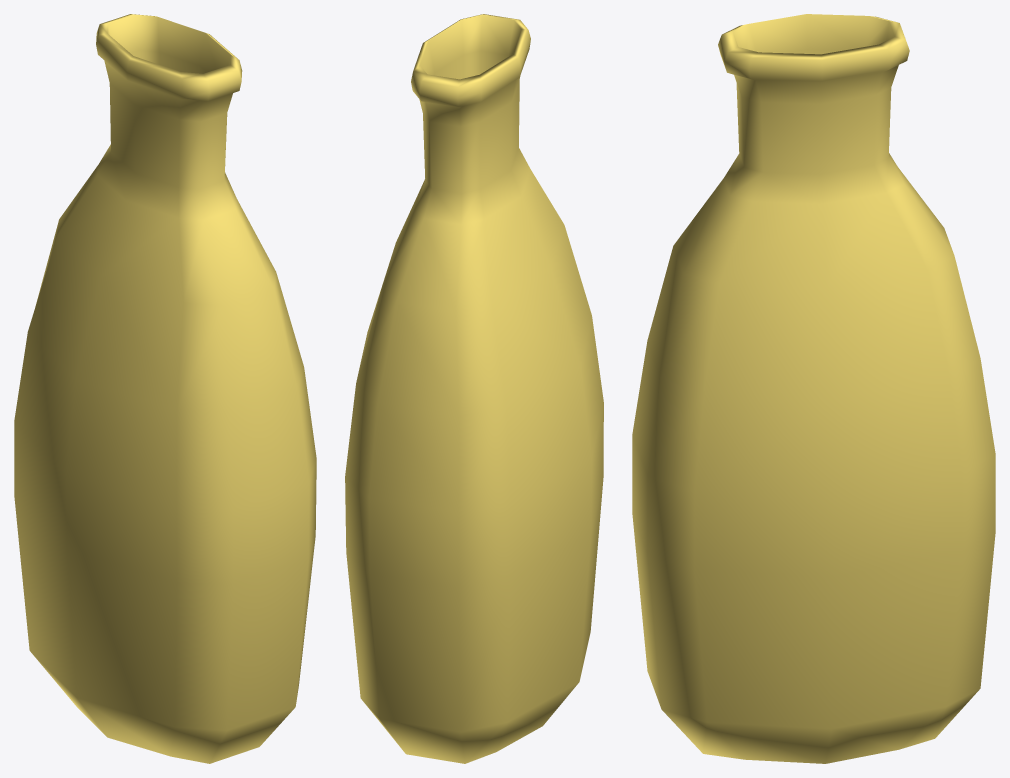
The model's file is Bedroom_2_Vase.fbx.
3 renders of one model, left to right at view 1: azimuth 30°, elevation 25°; view 2: azimuth 150°, elevation 25°; view 3: azimuth 270°, elevation 25°, orthographic. The views are drawn at different scales.
Visible parts, largest first — view 1: Bedroom_2_Vase; view 2: Bedroom_2_Vase; view 3: Bedroom_2_Vase.
Boxes of the visible parts, <box> form: Bedroom_2_Vase: <box>14,14,316,763</box>; Bedroom_2_Vase: <box>345,14,603,763</box>; Bedroom_2_Vase: <box>632,14,995,763</box>.
Size of the model in its own units: 13.73 by 40.62 by 19.08.
